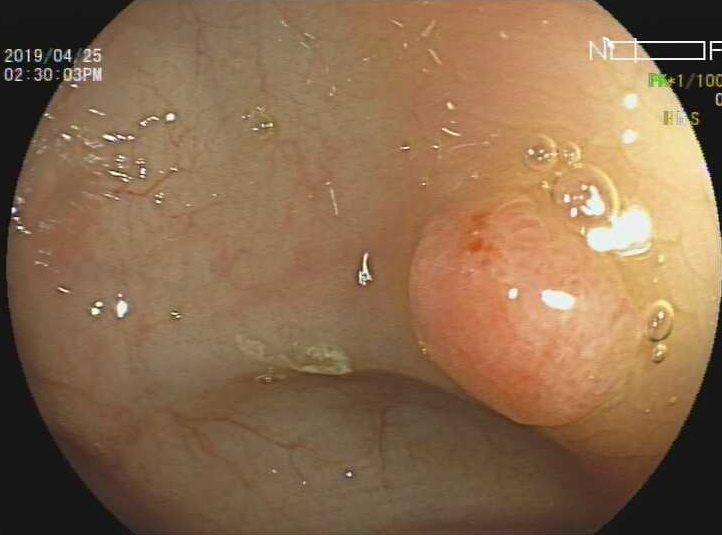adenoma: (402, 190, 649, 431)
